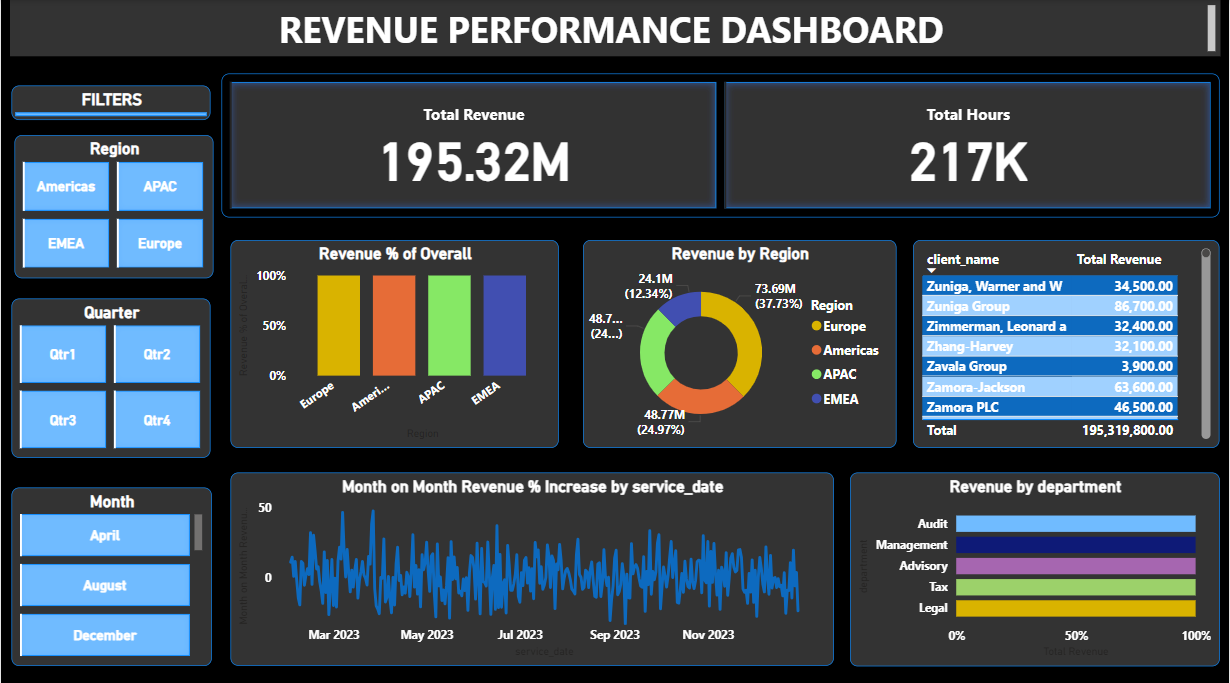

This screenshot's page, from the dashboard's own definition file:
{"tool":"powerbi","page":{"name":"Page 1","canvas":[1280,720],"ordinal":0},"visuals":[{"type":"textbox","box":[8.9,0,1261.1,58.9],"z":0},{"type":"advancedSlicerVisual","fields":{"Values":["branch_data.Region"]},"box":[13.3,140.8,207.5,149.2],"z":1000},{"type":"advancedSlicerVisual","fields":{"Values":["DateTable.Quarter"]},"box":[11.2,311.2,207.5,166.2],"z":2000},{"type":"advancedSlicerVisual","fields":{"Values":["DateTable.Month"]},"box":[11.2,507.5,208.8,186.2],"z":3000},{"type":"shape","title":"FILTERS","box":[11.2,88.8,207.5,36.2],"z":4000},{"type":"cardVisual","fields":{"Data":["services_data.Total Revenue","services_data.Total Hours"]},"box":[230,76.7,1040,150],"z":5000},{"type":"lineChart","fields":{"Category":["services_data.service_date"],"Y":["services_data.Month on Month Revenue % Increase"]},"box":[238.8,492.6,628.7,201.1],"z":6000},{"type":"hundredPercentStackedBarChart","title":"Revenue by department","fields":{"Category":["services_data.department"],"Y":["services_data.Total Revenue"]},"box":[884.2,492.6,385.5,202],"z":7000},{"type":"hundredPercentStackedColumnChart","title":"Revenue % of Overall ","fields":{"Category":["branch_data.Region"],"Y":["services_data.Revenue % of Overall by Region"]},"box":[238.9,250,342.2,216.7],"z":8000},{"type":"donutChart","title":"Revenue by Region","fields":{"Category":["branch_data.Region"],"Y":["services_data.Total Revenue"]},"box":[605.8,250.8,326.7,216.7],"z":9000},{"type":"tableEx","fields":{"Values":["services_data.client_name","services_data.Total Revenue"]},"box":[950.8,250.8,319.2,216.7],"z":10000}]}

Visuals, with their boxes in screenshot pixels (x1, y1, x2, y2), scaled from the page's 1280x720 canvas onto the 1230x683 screenshot:
textbox: l=9, t=0, r=1220, b=56
advancedSlicerVisual - branch_data.Region: l=13, t=134, r=212, b=275
advancedSlicerVisual - DateTable.Quarter: l=11, t=295, r=210, b=453
advancedSlicerVisual - DateTable.Month: l=11, t=481, r=211, b=658
"FILTERS" shape: l=11, t=84, r=210, b=119
cardVisual - services_data.Total Revenue x services_data.Total Hours: l=221, t=73, r=1220, b=215
lineChart - services_data.service_date x services_data.Month on Month Revenue % Increase: l=229, t=467, r=834, b=658
"Revenue by department" hundredPercentStackedBarChart: l=850, t=467, r=1220, b=659
"Revenue % of Overall " hundredPercentStackedColumnChart: l=230, t=237, r=558, b=443
"Revenue by Region" donutChart: l=582, t=238, r=896, b=443
tableEx - services_data.client_name x services_data.Total Revenue: l=914, t=238, r=1220, b=443
